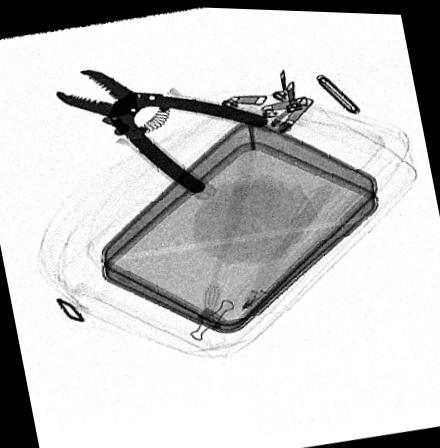Pliers: (54, 69, 270, 194)
